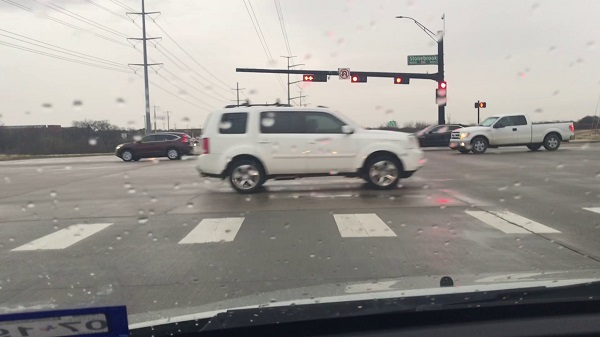car: (195, 105, 422, 188), (115, 131, 193, 163), (410, 124, 469, 147)
truck: (452, 113, 575, 155)
